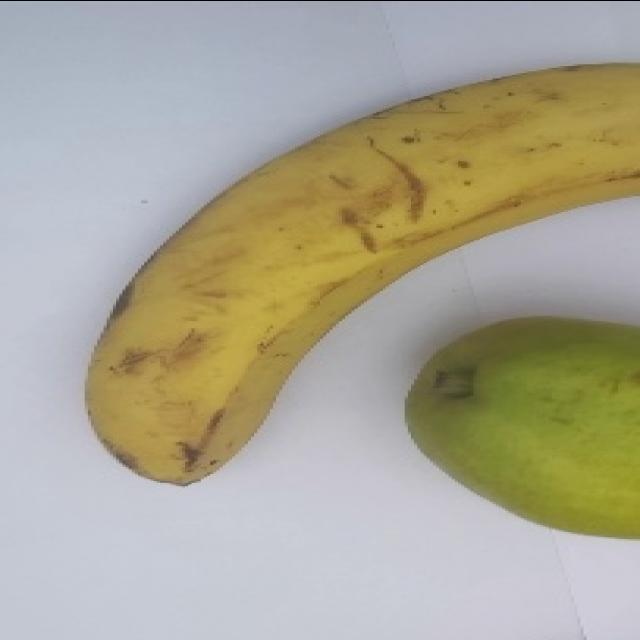Banana: (83, 58, 640, 489)
